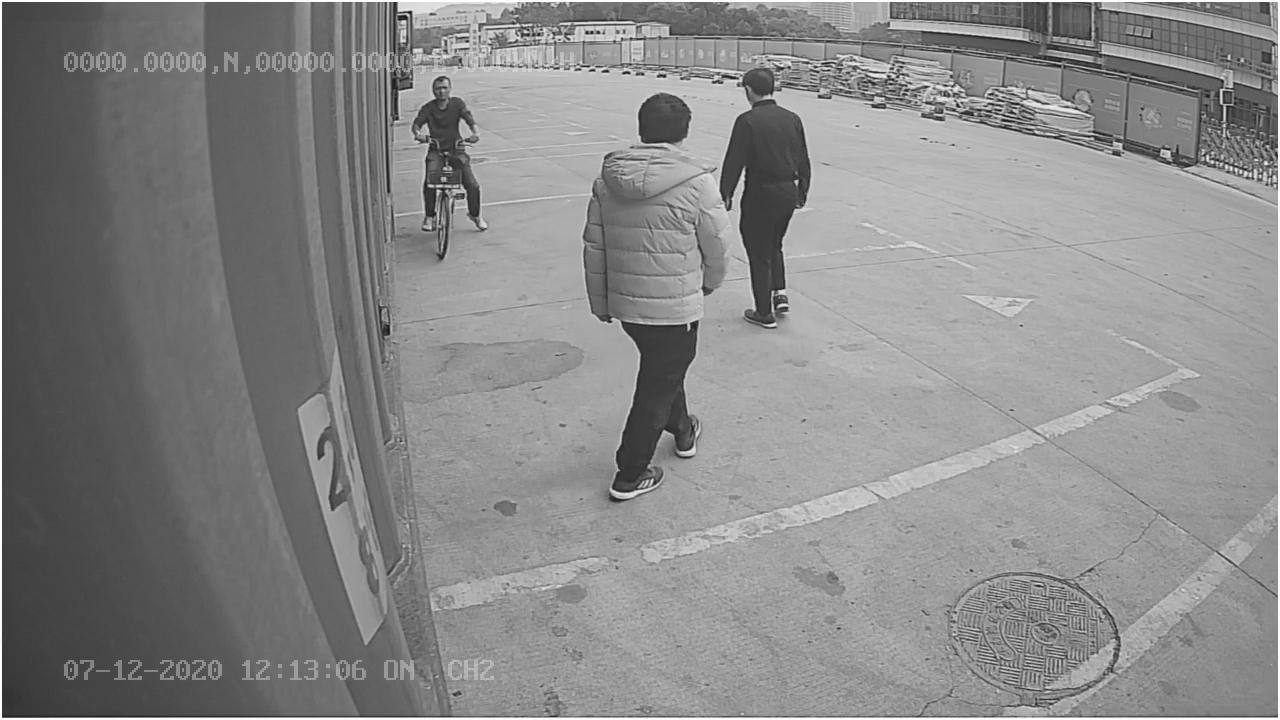person: (577, 90, 729, 499)
